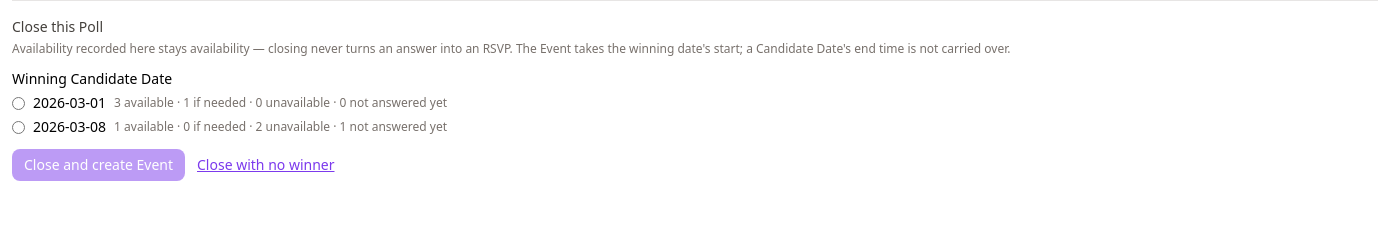
Test: ClosePollPanel › warns that a closed Poll cannot be reopened before creating the Event
The image size is (1378, 242).
Click the radio button labelled "2026-03-08" at (18, 127), box [12,120,25,134]
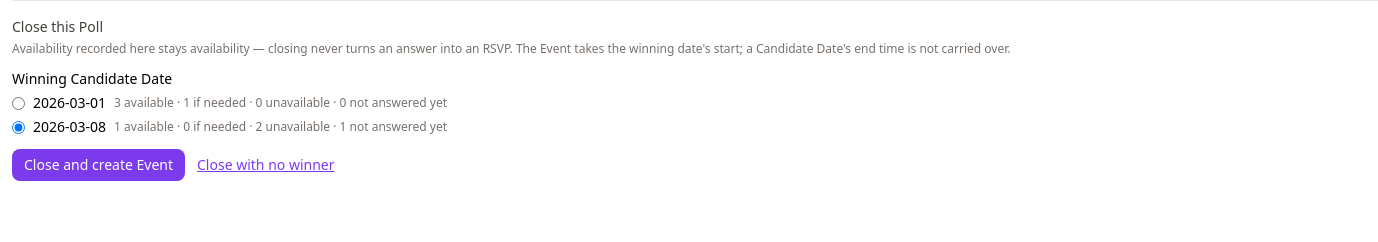
Click the button "Close and create Event" at (98, 165), box [12,149,185,181]
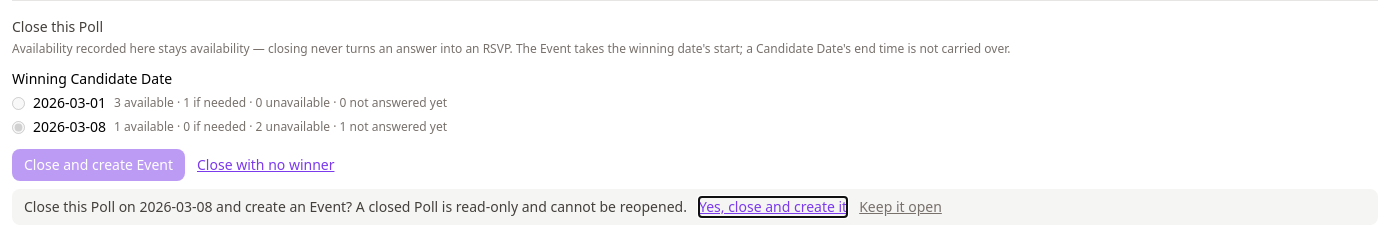
Result: the message shows "Close this Poll on 2026-03-08 and create an Event? A closed Poll is read-only and cannot be reopened." at [24,197,687,216]
